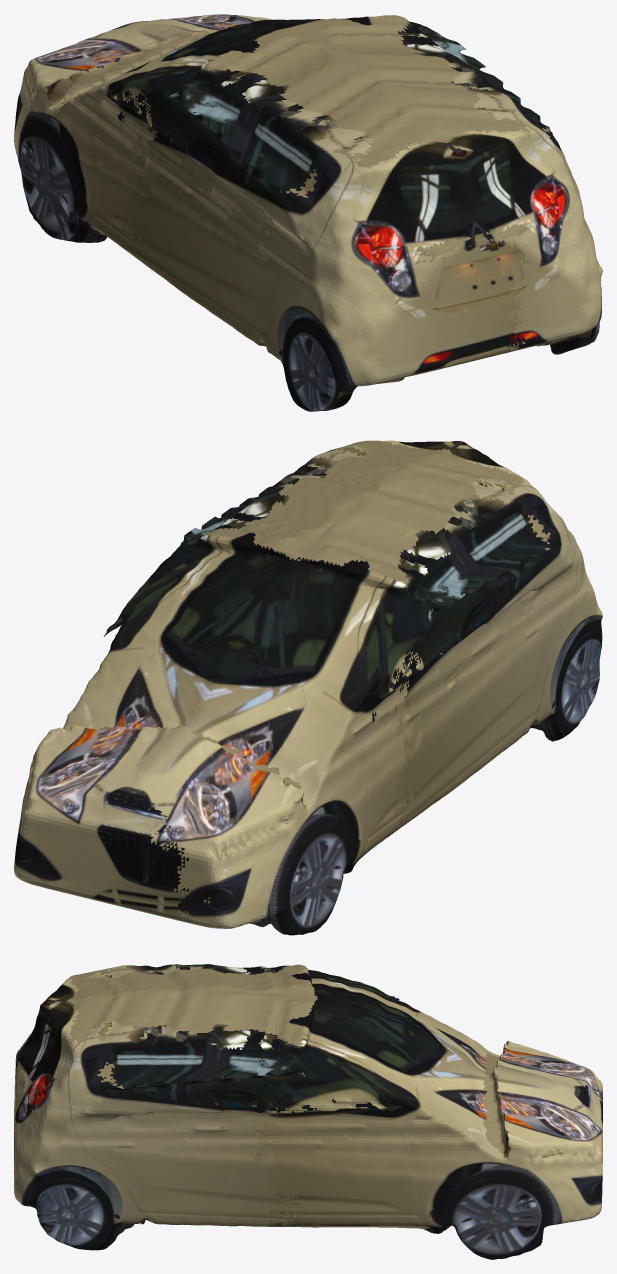
Rendered from chevrolet-spark-gt-2014.glb.
3 renders of one model, top to bottom at view 1: azimuth 30°, elevation 25°; view 2: azimuth 150°, elevation 25°; view 3: azimuth 270°, elevation 25°, orthographic. The views are drawn at different scales.
Parts seen in each view (by area): view 1: carro; view 2: carro; view 3: carro.
Boxes of the visible parts, x1,y1,x2,y2 form: carro: [14, 14, 602, 411]; carro: [14, 440, 602, 935]; carro: [14, 964, 602, 1259].
Bounding box in the file's own units: 1.62 × 1.52 × 3.64.
1 material, 1 textured.
